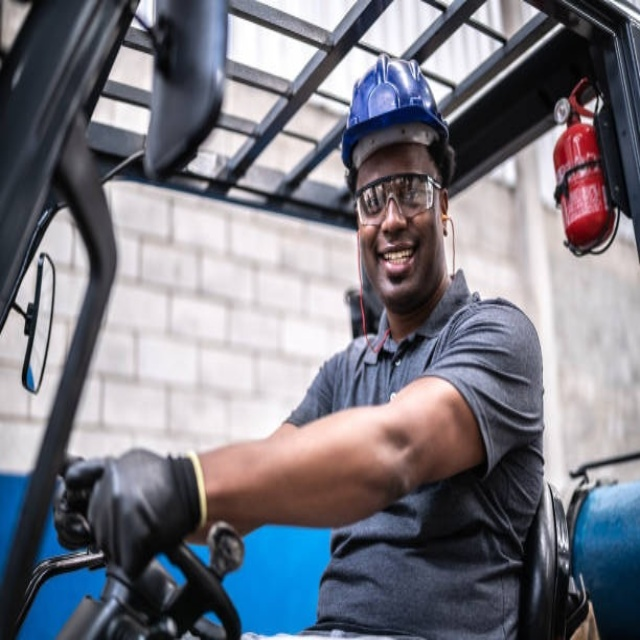Gafas: (352, 168, 444, 220)
Guantes: (76, 445, 207, 581)
Sin_mascara: (373, 237, 420, 287)
